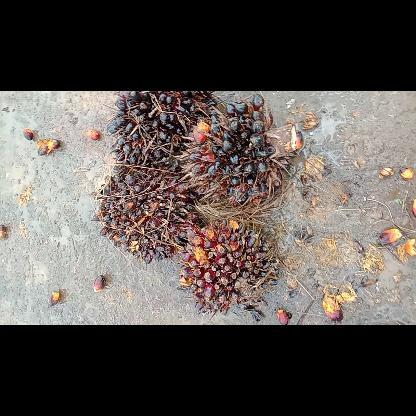TBS abnormal: (174, 94, 309, 216), (104, 91, 220, 177)
TBS masak: (92, 162, 206, 265), (174, 215, 284, 317)
